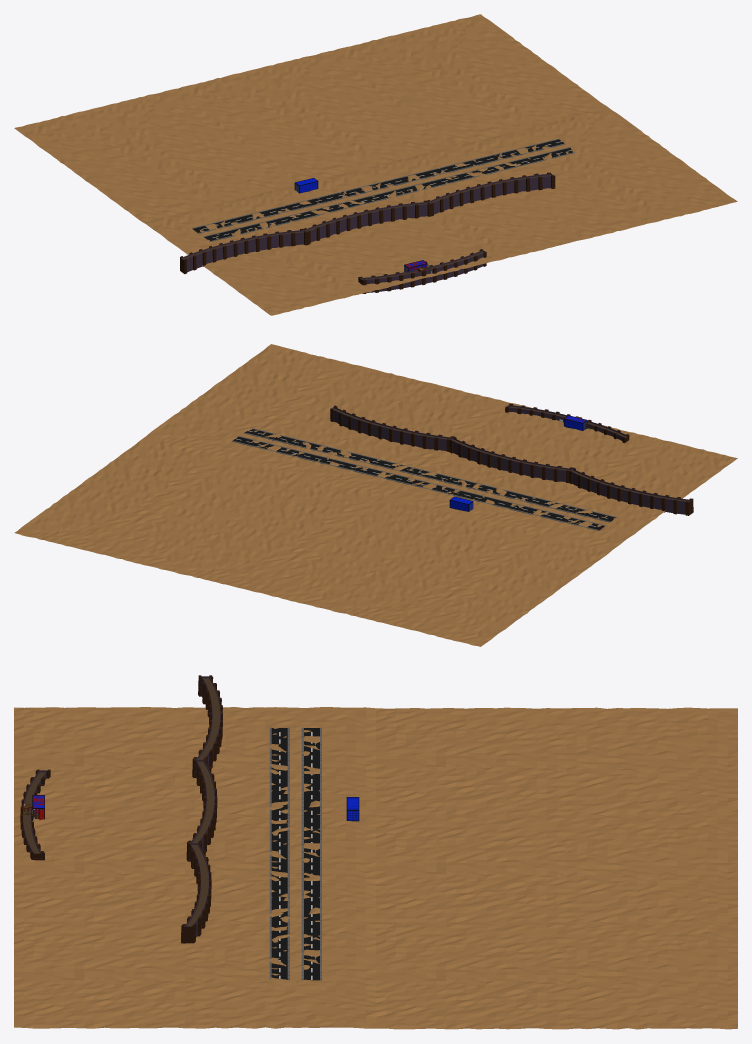
The model's file is GameObject 1.fbx.
3 views of the same model, one above another, from view 1: azimuth 30°, elevation 25°; view 2: azimuth 150°, elevation 25°; view 3: azimuth 270°, elevation 25° (orthographic). The views are drawn at different scales.
Parts seen in each view (by area): view 1: desert, Cube__2_, Cube__1_, Cube__3_, Cube, road__2_, road__3_, road__1_, road; view 2: desert, Cube__2_, Cube__1_, Cube__3_, road__2_, road__3_, road__1_, road, Cube; view 3: desert, road__2_, road__1_, road, road__3_, Cube__3_, Cube__1_, Cube__2_, Cube.
Part boxes in pixels (x1=…): desert: x1=14, y1=14, x2=737, y2=315; Cube__2_: x1=180, y1=229, x2=308, y2=273; Cube__1_: x1=304, y1=200, x2=431, y2=244; Cube__3_: x1=427, y1=172, x2=555, y2=216; Cube: x1=358, y1=249, x2=486, y2=293; road__2_: x1=375, y1=138, x2=565, y2=188; road__3_: x1=192, y1=183, x2=382, y2=233; road__1_: x1=203, y1=192, x2=390, y2=241; road: x1=387, y1=147, x2=576, y2=196; desert: x1=14, y1=344, x2=737, y2=646; Cube__2_: x1=569, y1=468, x2=693, y2=515; Cube__1_: x1=449, y1=436, x2=573, y2=482; Cube__3_: x1=330, y1=405, x2=453, y2=452; road__2_: x1=232, y1=436, x2=421, y2=485; road__3_: x1=415, y1=480, x2=605, y2=530; road__1_: x1=426, y1=473, x2=616, y2=522; road: x1=243, y1=427, x2=431, y2=477; Cube: x1=505, y1=403, x2=629, y2=443; desert: x1=14, y1=707, x2=737, y2=1029; road__2_: x1=301, y1=853, x2=321, y2=980; road__1_: x1=269, y1=727, x2=289, y2=853; road: x1=269, y1=853, x2=289, y2=979; road__3_: x1=301, y1=727, x2=321, y2=853; Cube__3_: x1=181, y1=842, x2=211, y2=943; Cube__1_: x1=186, y1=759, x2=217, y2=857; Cube__2_: x1=192, y1=675, x2=222, y2=772; Cube: x1=20, y1=769, x2=50, y2=860.
Bounding box in the file's own units: 34614 × 1456 × 31611.
